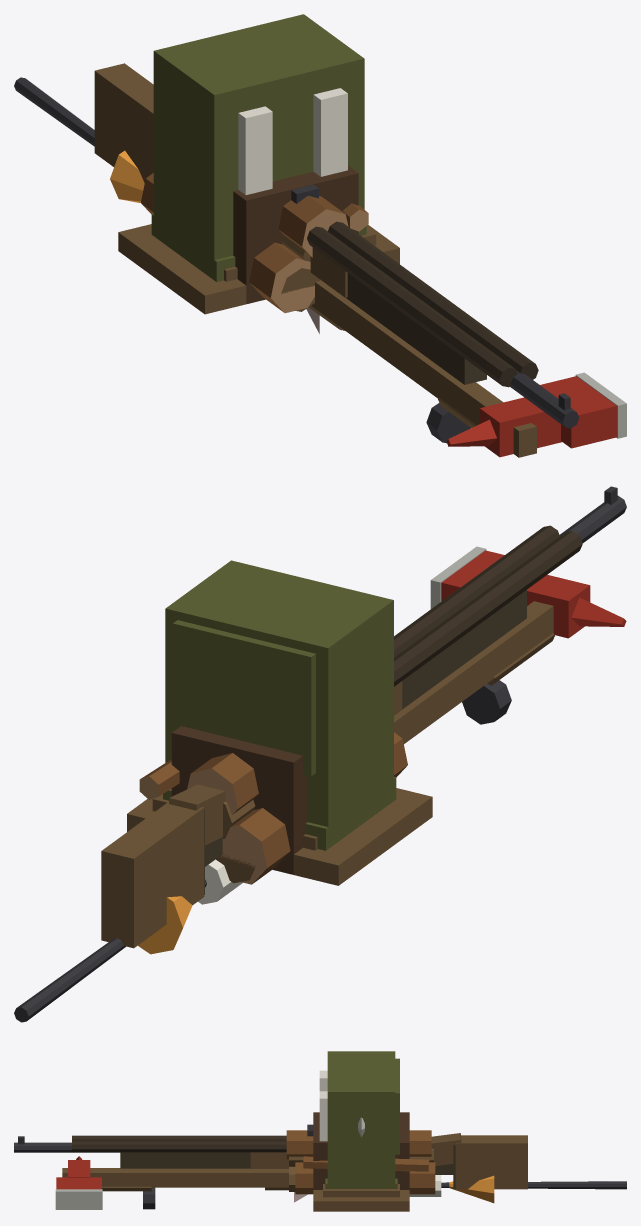
Rendered from items.glb.
3 views of the same model, one above another, from view 1: azimuth 30°, elevation 25°; view 2: azimuth 150°, elevation 25°; view 3: azimuth 270°, elevation 25° (orthographic). The views are drawn at different scales.
Visible parts, largest first — view 1: backpack, shotgun, axe, campfire_kit, deer_pelt, rifle, fishing_rod, padded_jacket, torch, wood; view 2: backpack, shotgun, campfire_kit, axe, deer_pelt, rifle, fishing_rod, torch, padded_jacket, wood; view 3: backpack, shotgun, axe, campfire_kit, rifle, deer_pelt, fishing_rod, torch, wood.
Part boxes in pixels (left/top/right/bottom): backpack: left=153, top=14, right=364, bottom=260; shotgun: left=94, top=63, right=538, bottom=387; axe: left=311, top=280, right=626, bottom=457; campfire_kit: left=141, top=165, right=368, bottom=313; deer_pelt: left=118, top=224, right=399, bottom=314; rifle: left=346, top=273, right=579, bottom=428; fishing_rod: left=14, top=77, right=476, bottom=443; padded_jacket: left=151, top=213, right=366, bottom=281; torch: left=110, top=150, right=344, bottom=330; wood: left=281, top=235, right=320, bottom=311; backpack: left=165, top=560, right=393, bottom=848; shotgun: left=101, top=525, right=582, bottom=948; campfire_kit: left=139, top=726, right=407, bottom=884; axe: left=394, top=546, right=626, bottom=743; deer_pelt: left=127, top=788, right=432, bottom=885; rifle: left=204, top=486, right=626, bottom=894; fishing_rod: left=14, top=633, right=554, bottom=1022; torch: left=138, top=859, right=242, bottom=954; padded_jacket: left=163, top=776, right=396, bottom=850; wood: left=216, top=800, right=255, bottom=883; backpack: left=319, top=1051, right=399, bottom=1188; shotgun: left=72, top=1133, right=527, bottom=1189; axe: left=55, top=1156, right=288, bottom=1209; campfire_kit: left=286, top=1112, right=435, bottom=1194; rifle: left=14, top=1136, right=455, bottom=1188; deer_pelt: left=313, top=1184, right=409, bottom=1211; fishing_rod: left=102, top=1181, right=626, bottom=1209; torch: left=265, top=1175, right=494, bottom=1203; wood: left=289, top=1149, right=433, bottom=1191.
Size of the model in its own units: 0.26 by 0.314 by 1.27.
